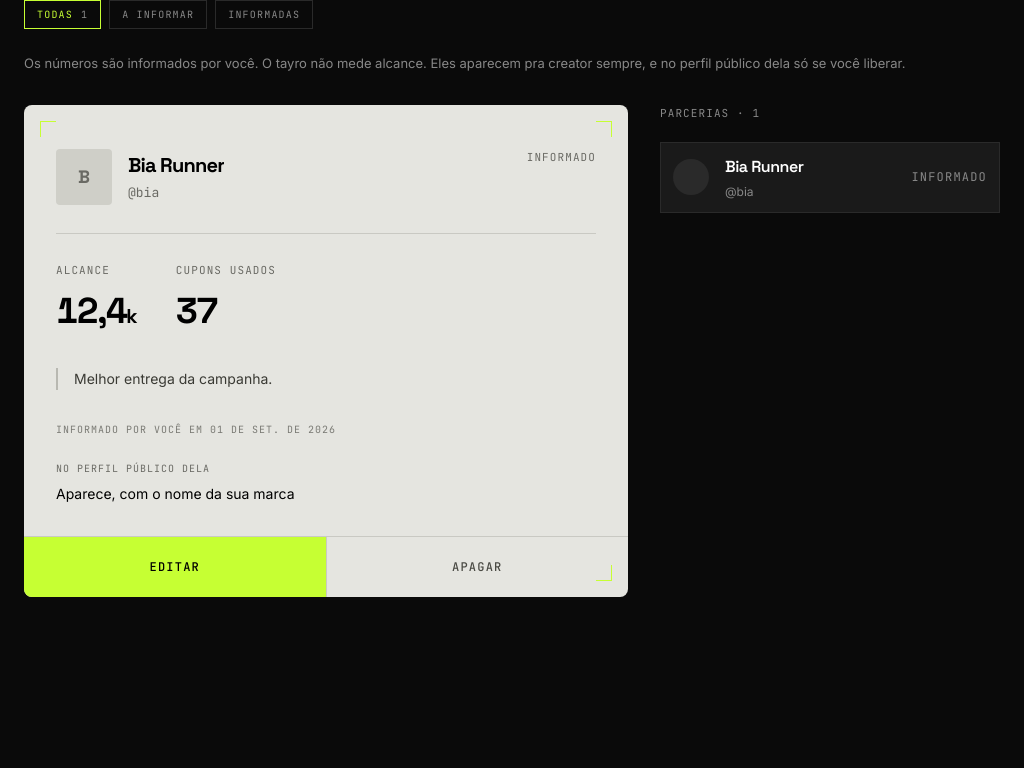
Test: CampaignResultsTab › avisa que sai também do perfil público quando estava publicado
Click the button "Apagar" at (477, 567), box [326,537,628,597]
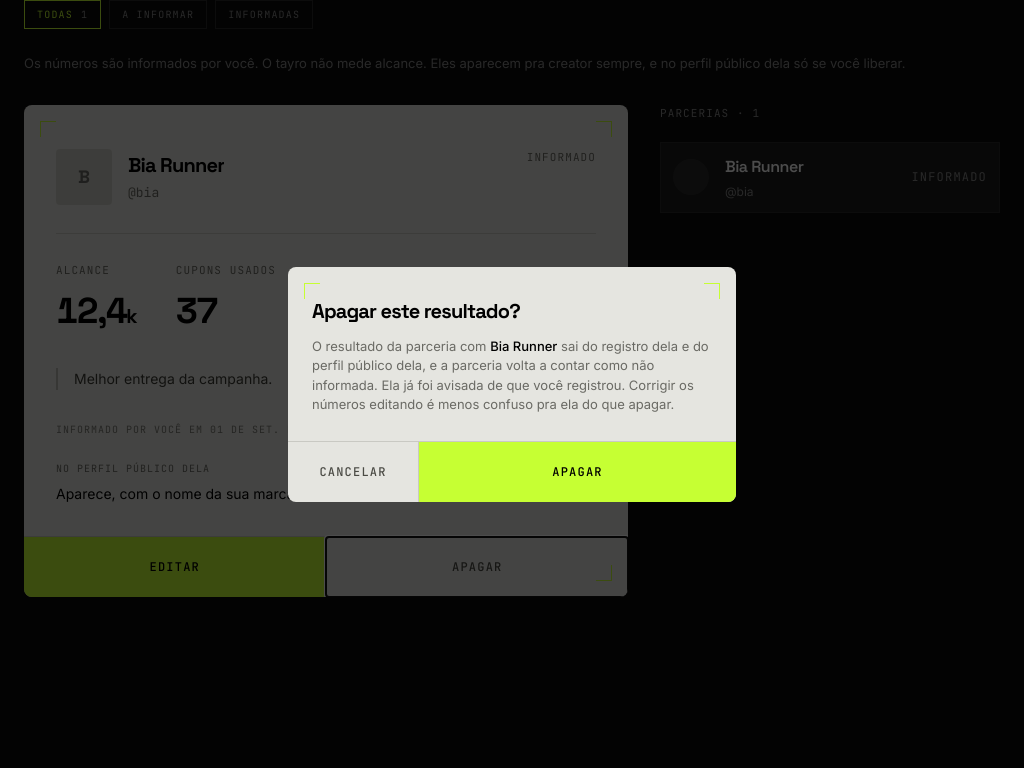
Expected: the text "e do perfil público dela" is shown, [312,338,709,392]
